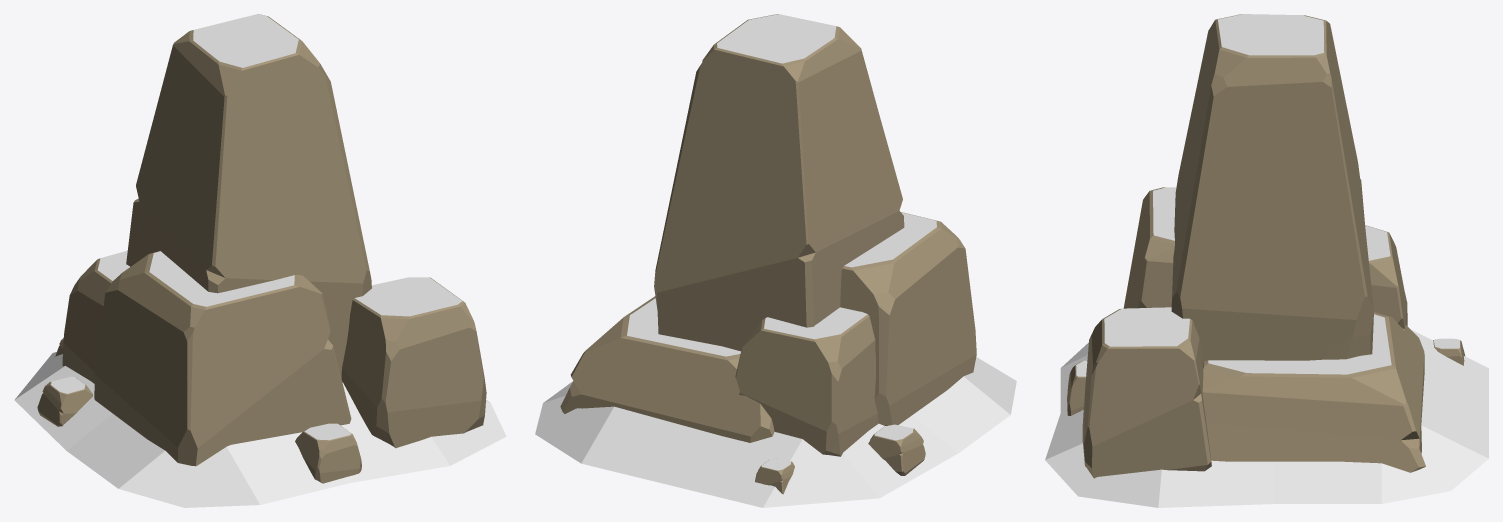
The model's file is HillBox_1.fbx.
3 views of the same model, side by side, from view 1: azimuth 30°, elevation 25°; view 2: azimuth 150°, elevation 25°; view 3: azimuth 270°, elevation 25° (orthographic). The views are drawn at different scales.
Parts seen in each view (by area): view 1: New Hill.001; view 2: New Hill.001; view 3: New Hill.001.
Part boxes in pixels (box(x1,y1,x2,y2)): New Hill.001: box(14, 14, 506, 507); New Hill.001: box(535, 14, 1016, 507); New Hill.001: box(1045, 14, 1488, 507).
Size of the model in its own units: 432 by 414 by 438.
